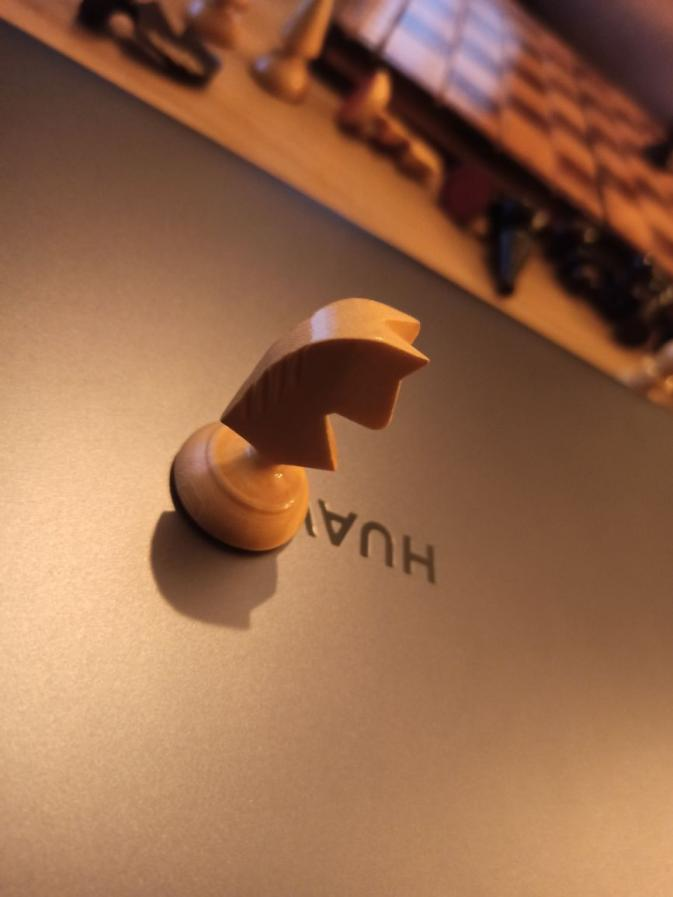wknight: (168, 299, 433, 561)
